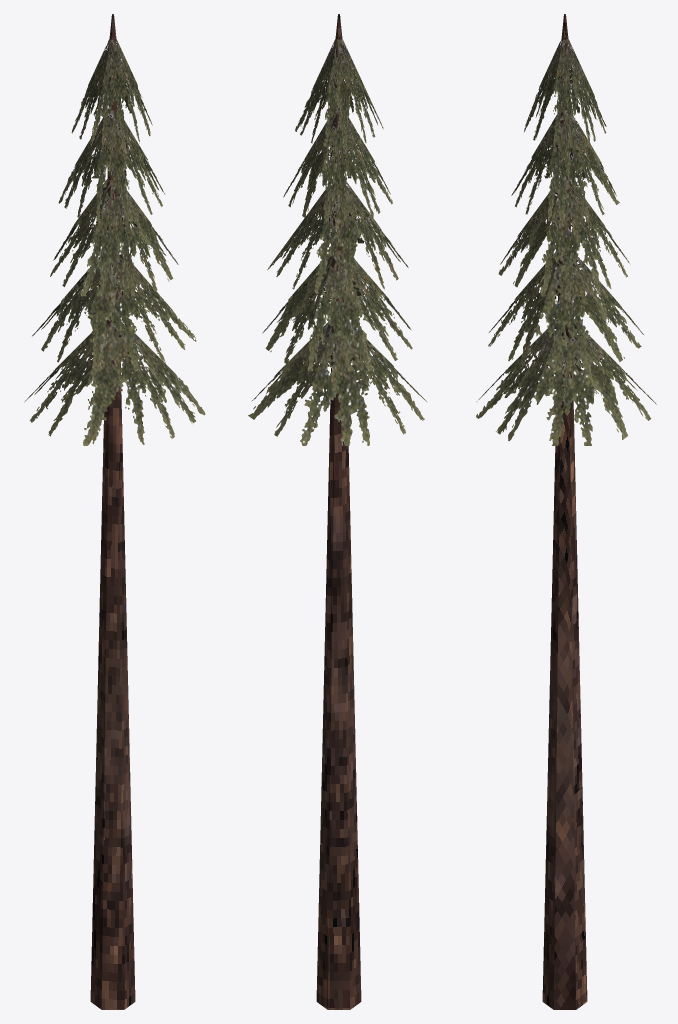
The model's file is treePine.fbx.
The picture shows the model from 3 angles, left to right: view 1: azimuth 30°, elevation 25°; view 2: azimuth 150°, elevation 25°; view 3: azimuth 270°, elevation 25°; orthographic projection.
Visible parts, largest first — view 1: TreePine; view 2: TreePine; view 3: TreePine.
Part boxes in pixels (<box>): TreePine: <box>24,14,205,1009</box>; TreePine: <box>248,14,426,1009</box>; TreePine: <box>476,14,656,1009</box>.
Size of the model in its own units: 1656 by 10536 by 1912.
